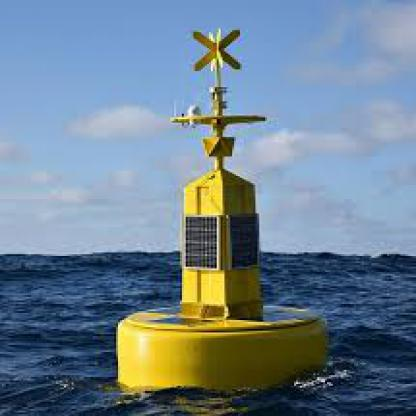buoy: (107, 20, 340, 400)
